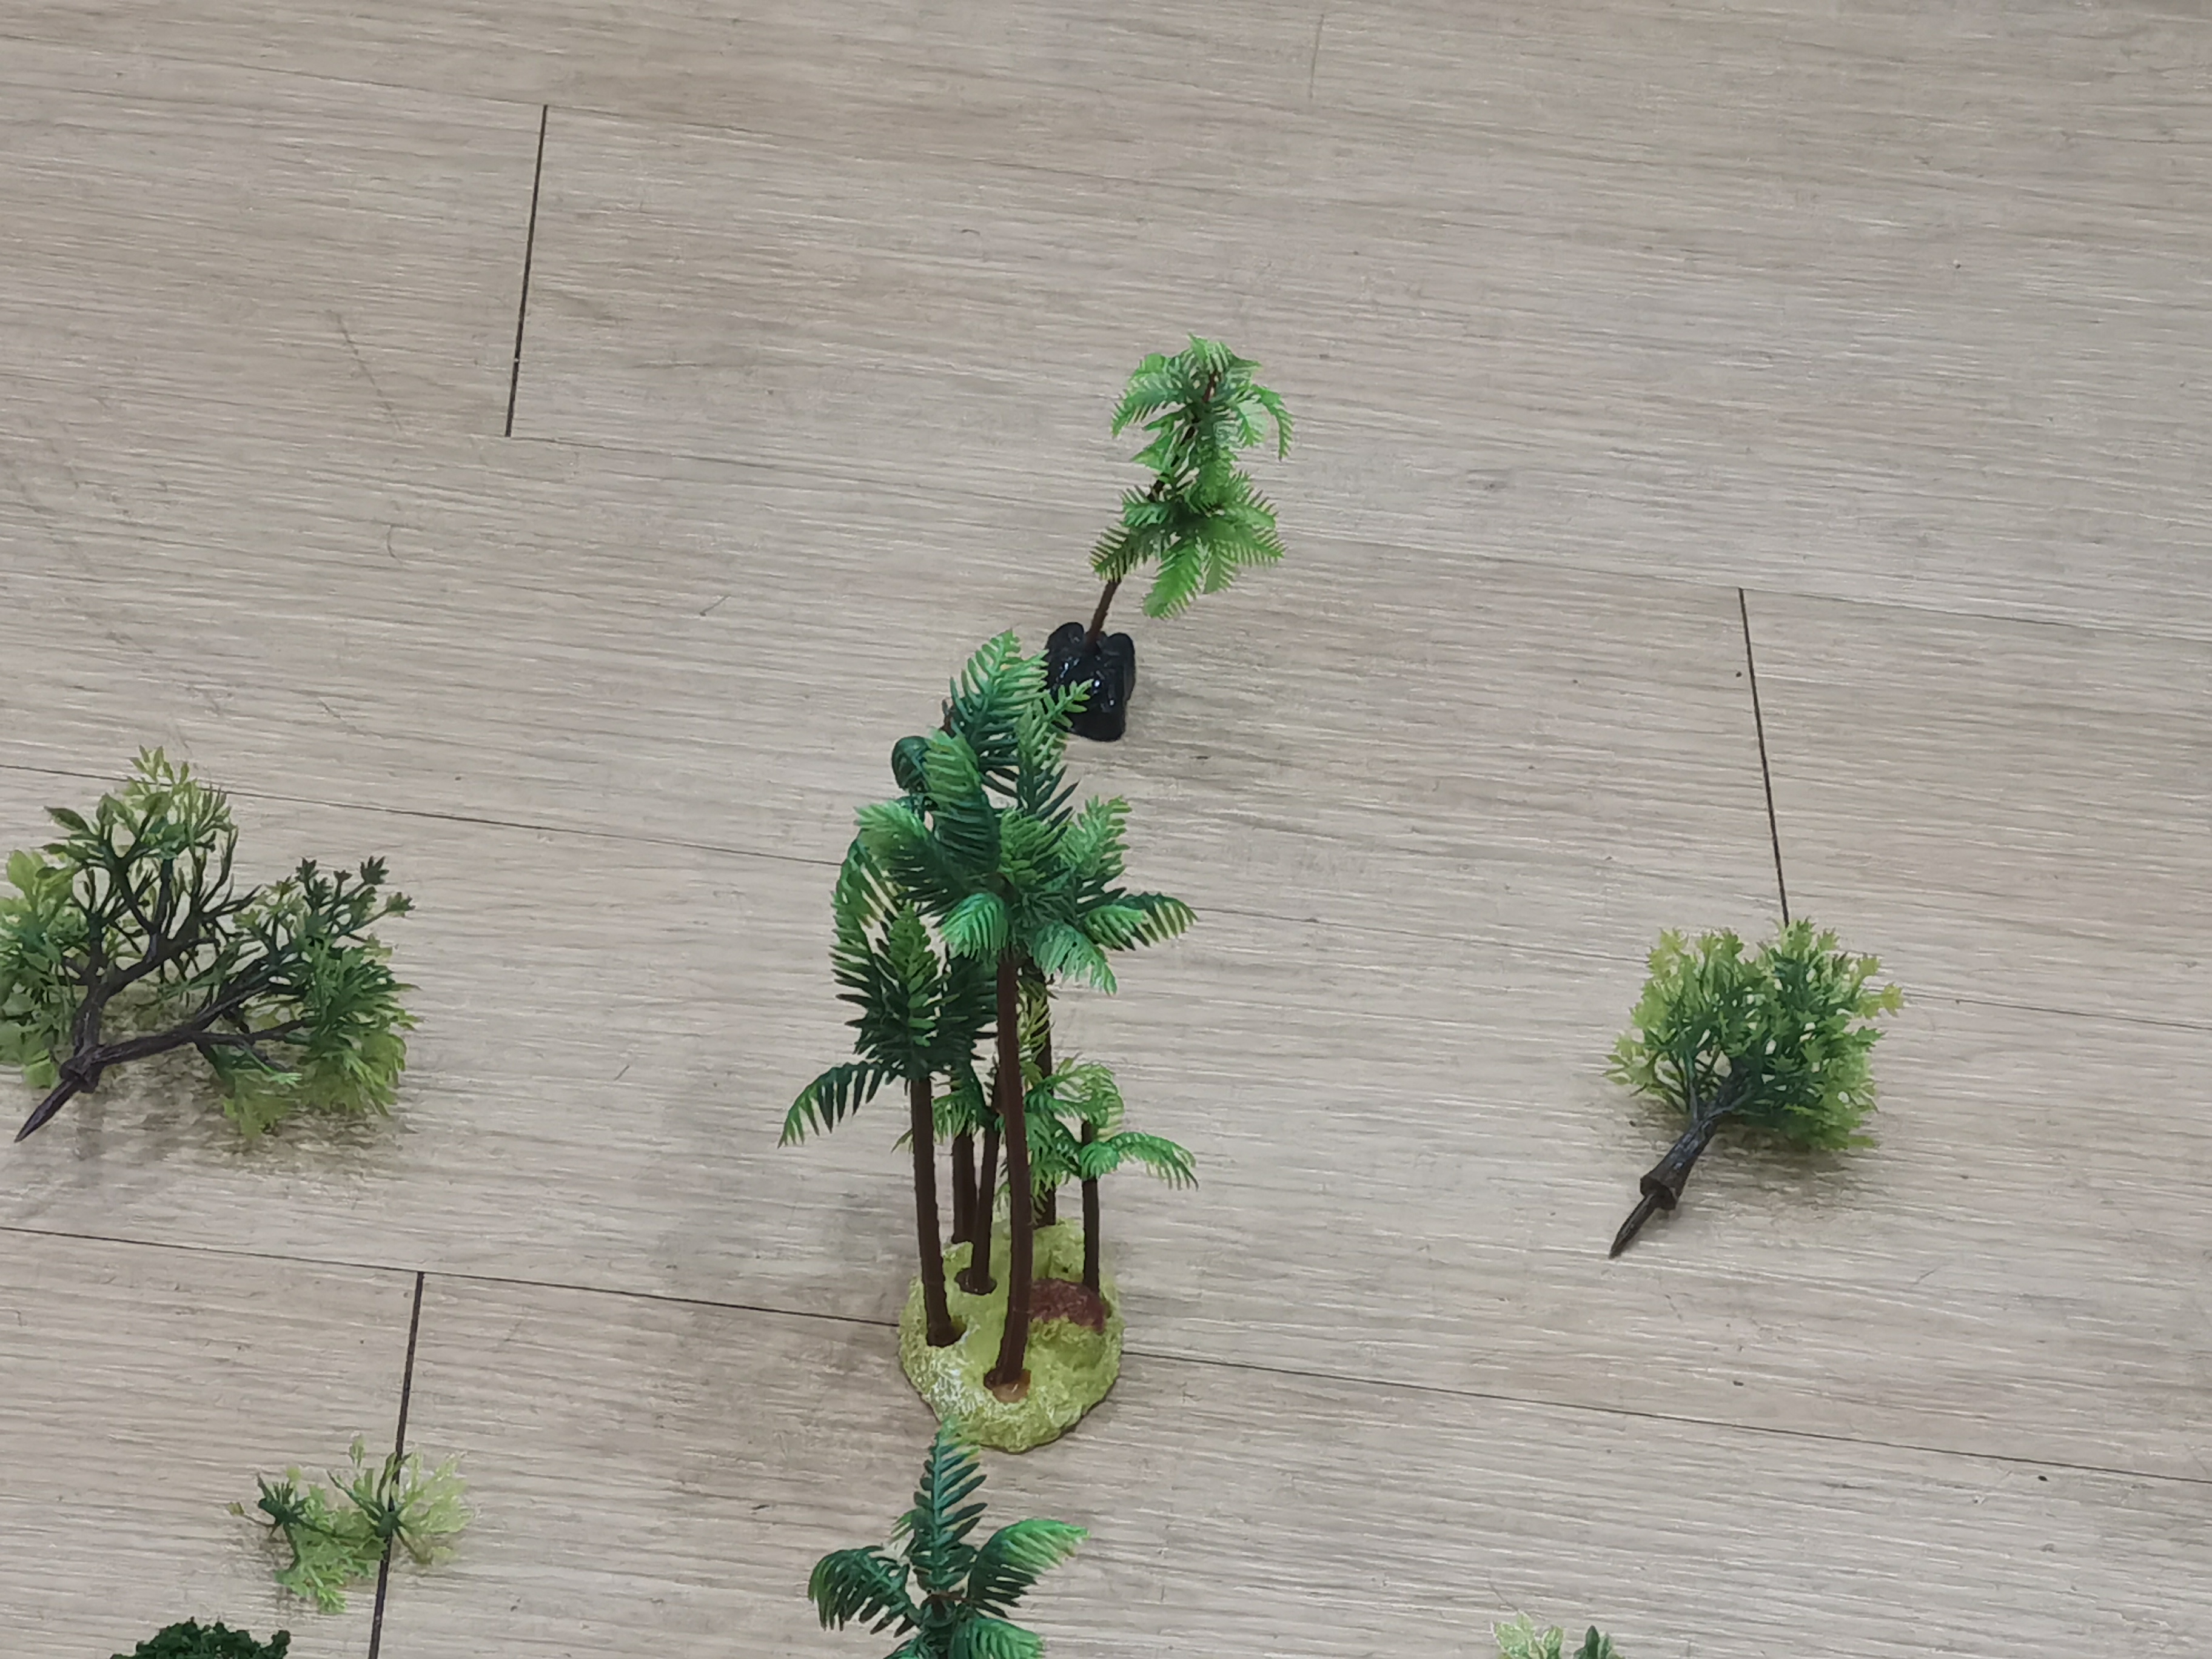corn: (792, 626, 1150, 1443), (1029, 340, 1315, 739), (745, 1410, 1092, 1659)
